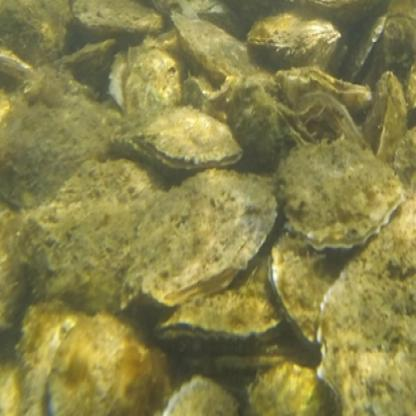Oyster- Indeterminate: (317, 195, 416, 416), (280, 136, 406, 258), (157, 243, 283, 347), (267, 230, 352, 351), (121, 101, 242, 177), (280, 65, 373, 108), (157, 377, 243, 416), (271, 107, 318, 153)
Oyster-Closed: (23, 161, 169, 315), (125, 168, 273, 305), (0, 72, 115, 207), (51, 311, 173, 416), (169, 12, 276, 83), (252, 15, 338, 73), (124, 44, 187, 122), (246, 360, 329, 416), (71, 0, 155, 37)
